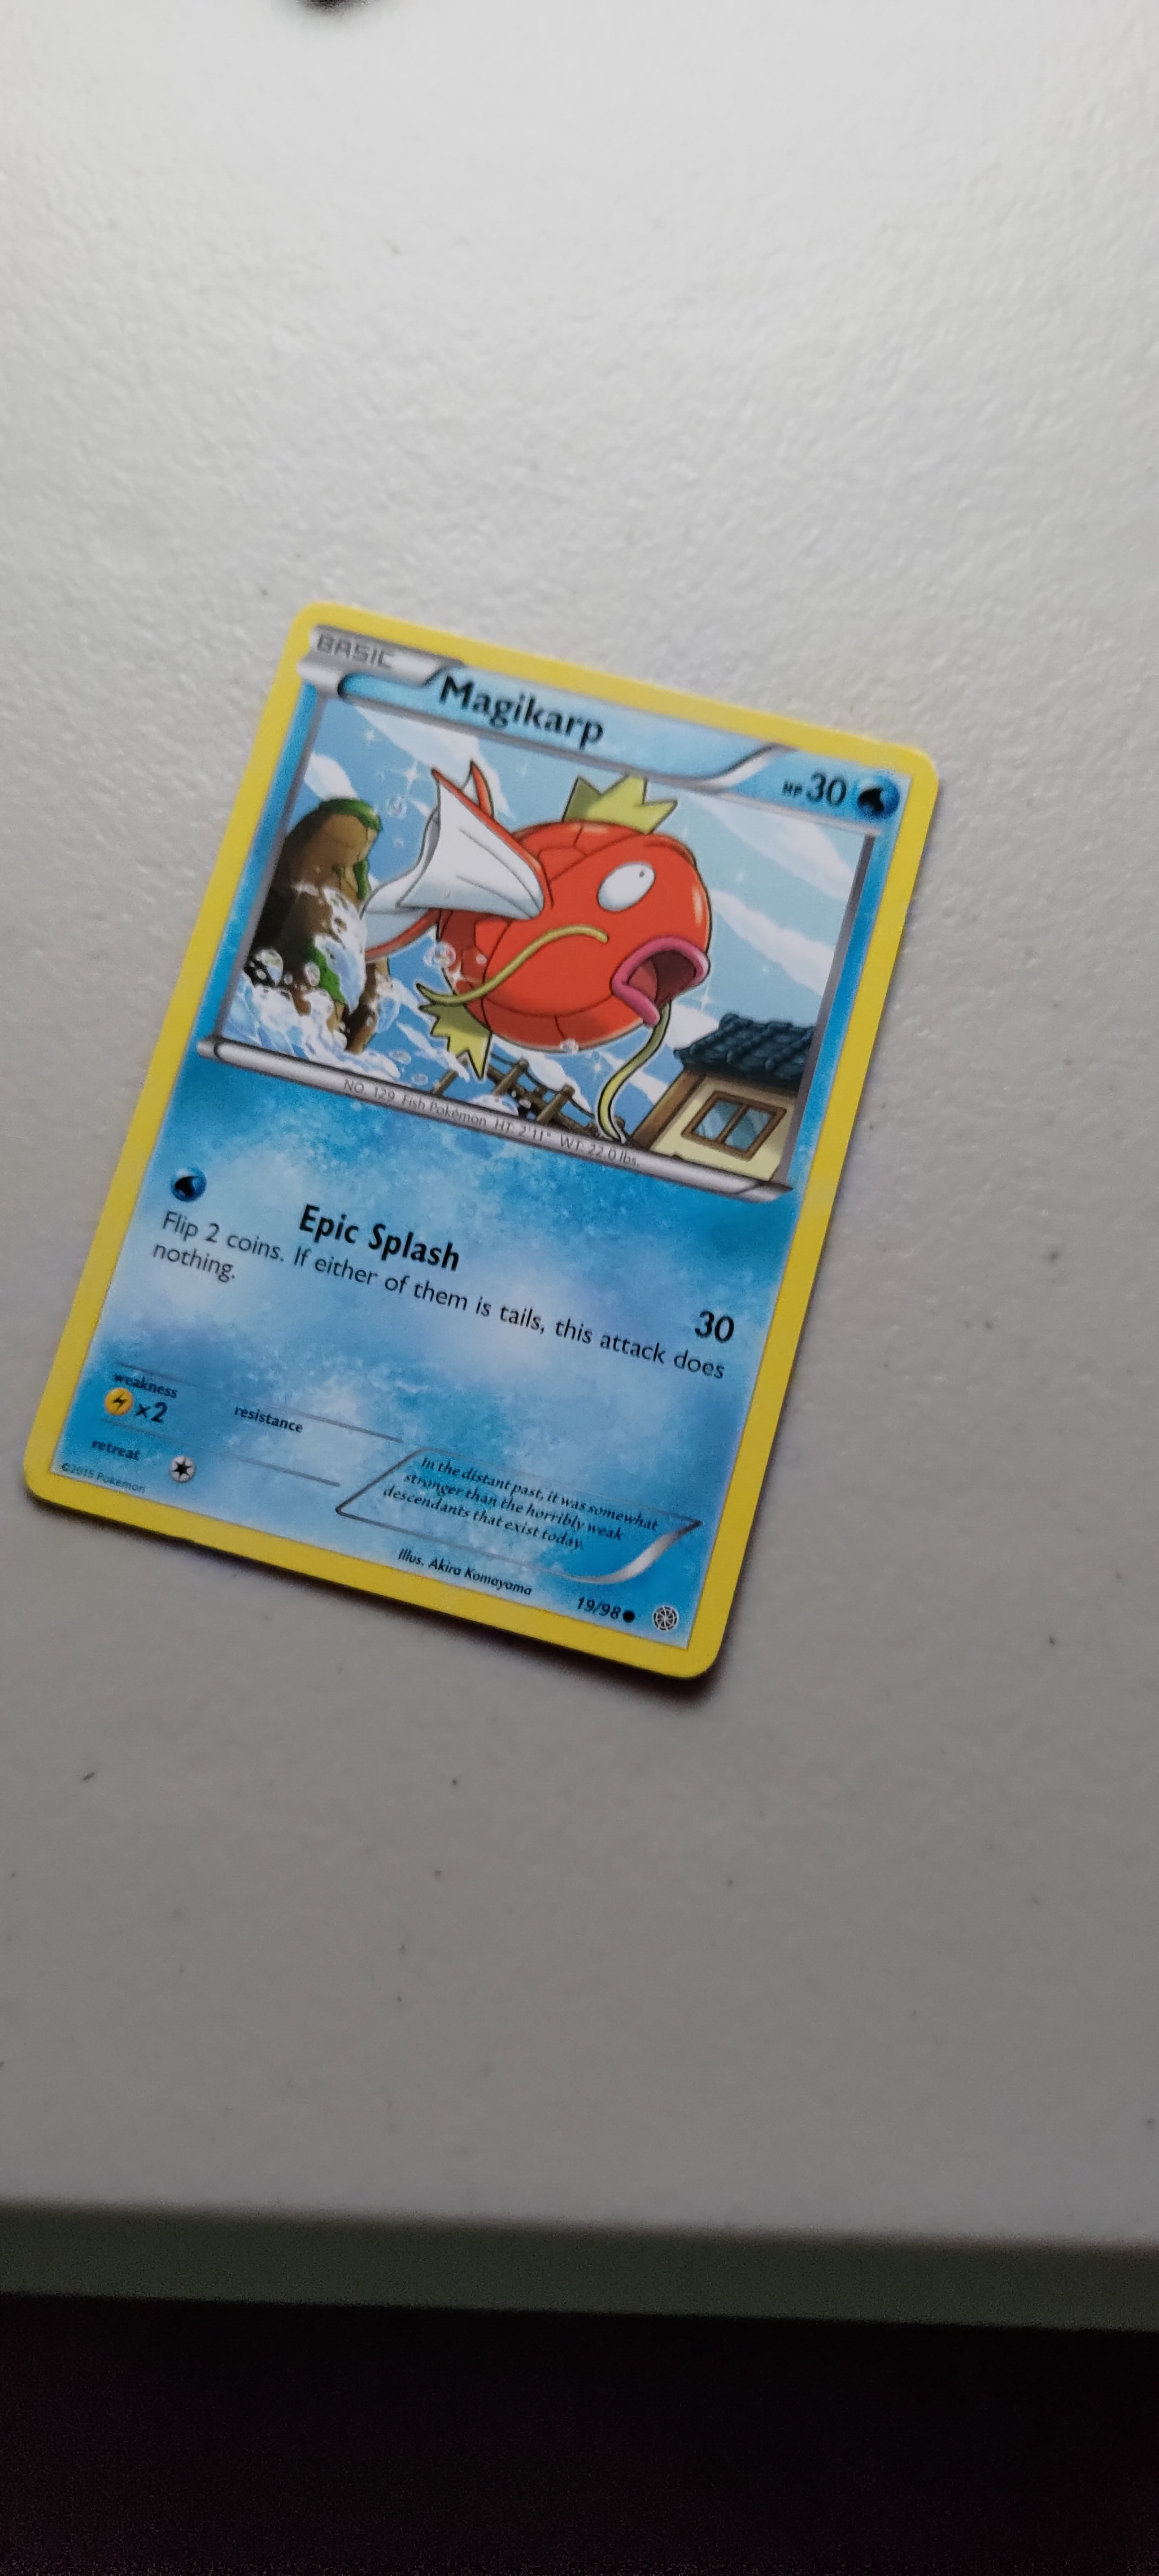pokemon_card: (269, 567, 992, 1602)
